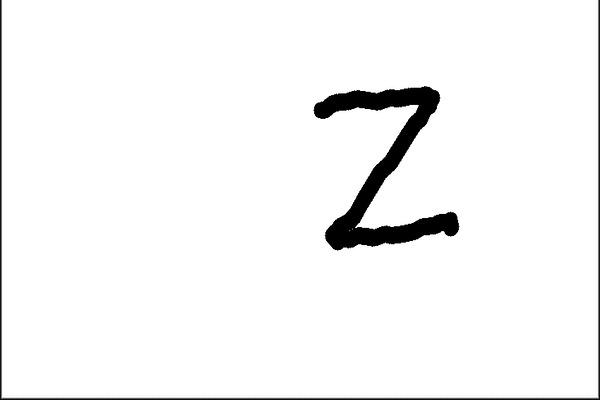Z: (294, 74, 467, 258)
